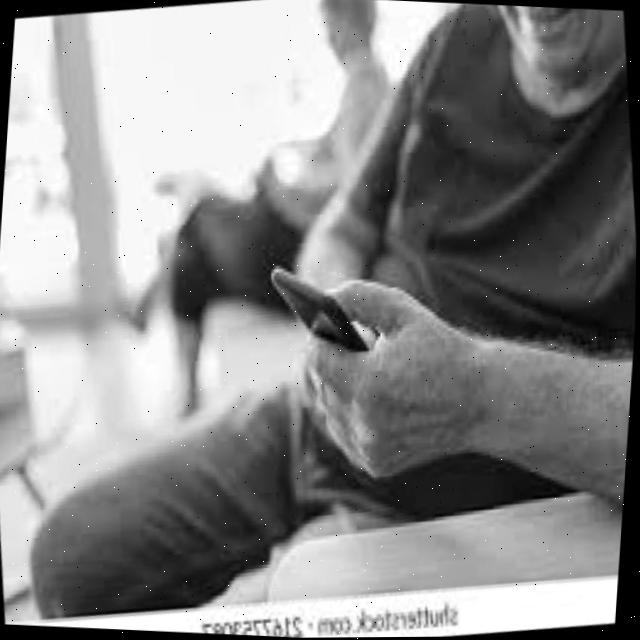phone: (266, 251, 379, 363)
